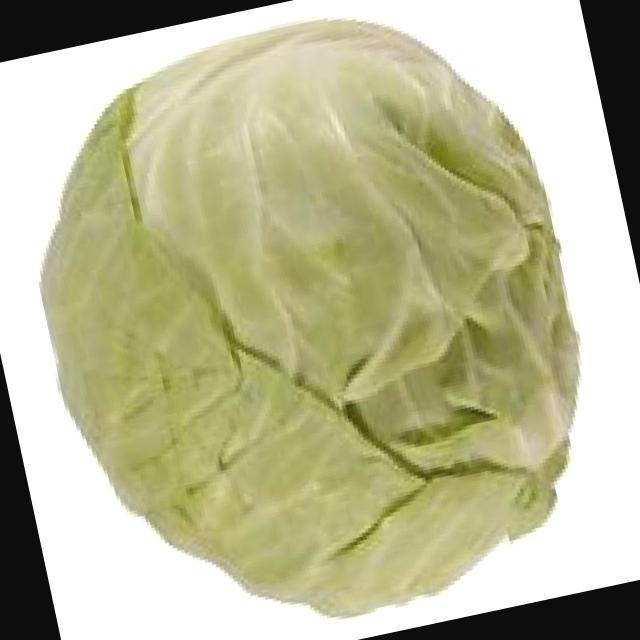cabbage: (39, 13, 583, 619)
